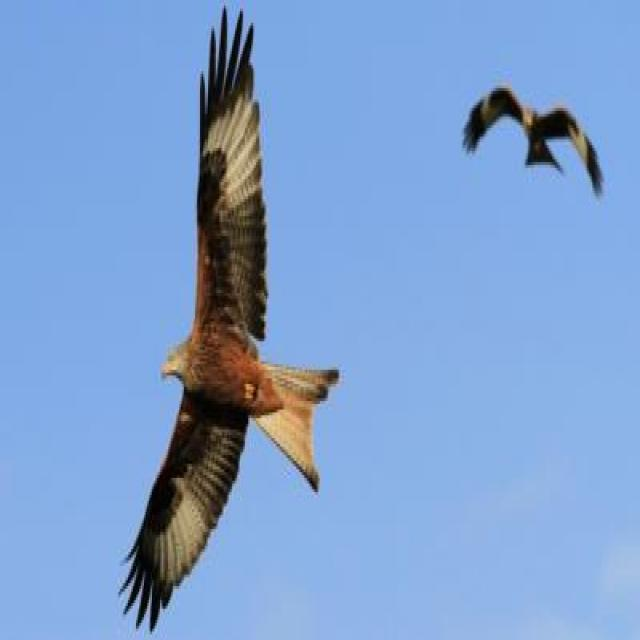birds: (117, 9, 342, 640), (456, 67, 608, 204)
